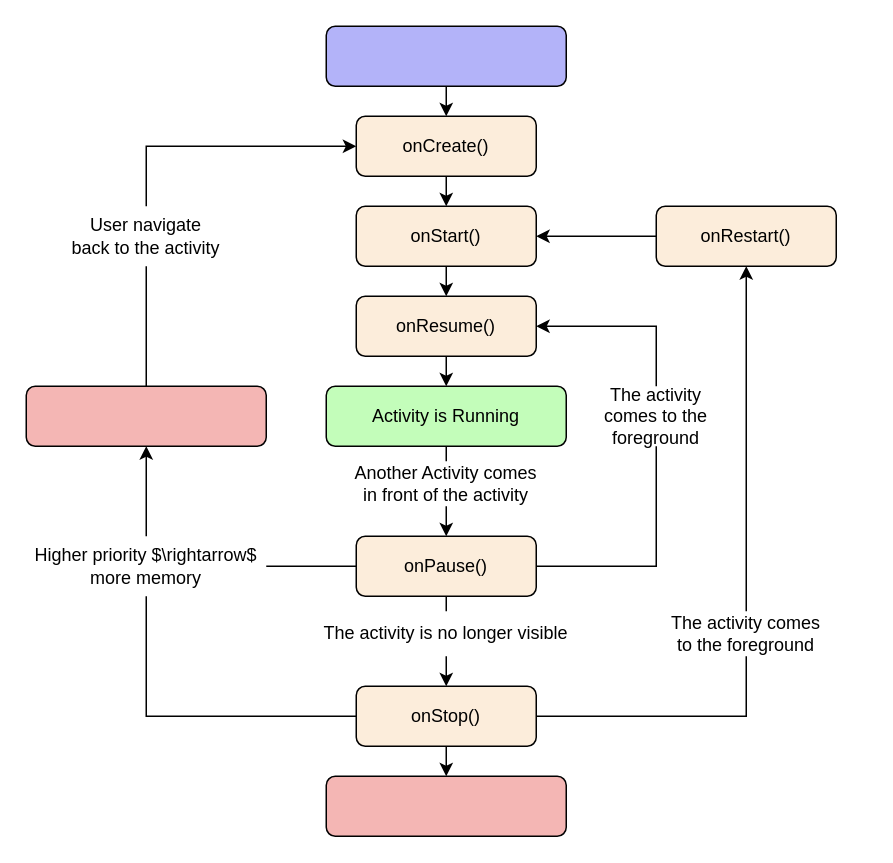
Image size: 893x863. Some labels were removed from this diagram. The shapes that lost their labels are listed below. From the top down, each one's centre as x and y in pixels, then its label:
At pixel 445 55: "Activity starts".
At pixel 145 415: "Process is Killed".
At pixel 445 805: "Activity is shutdown".
